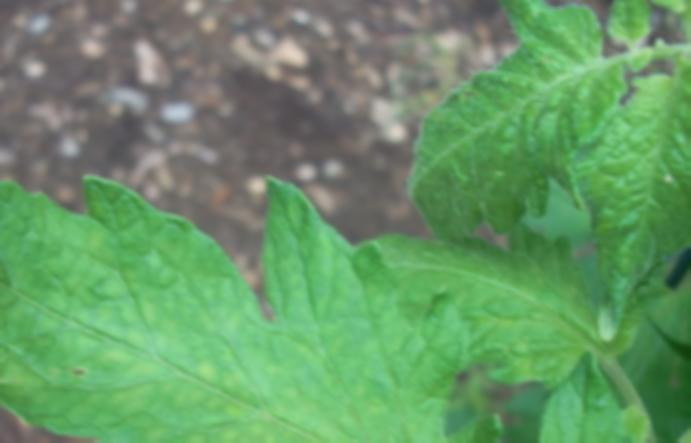Tomato mold leaf: (0, 130, 487, 443)
